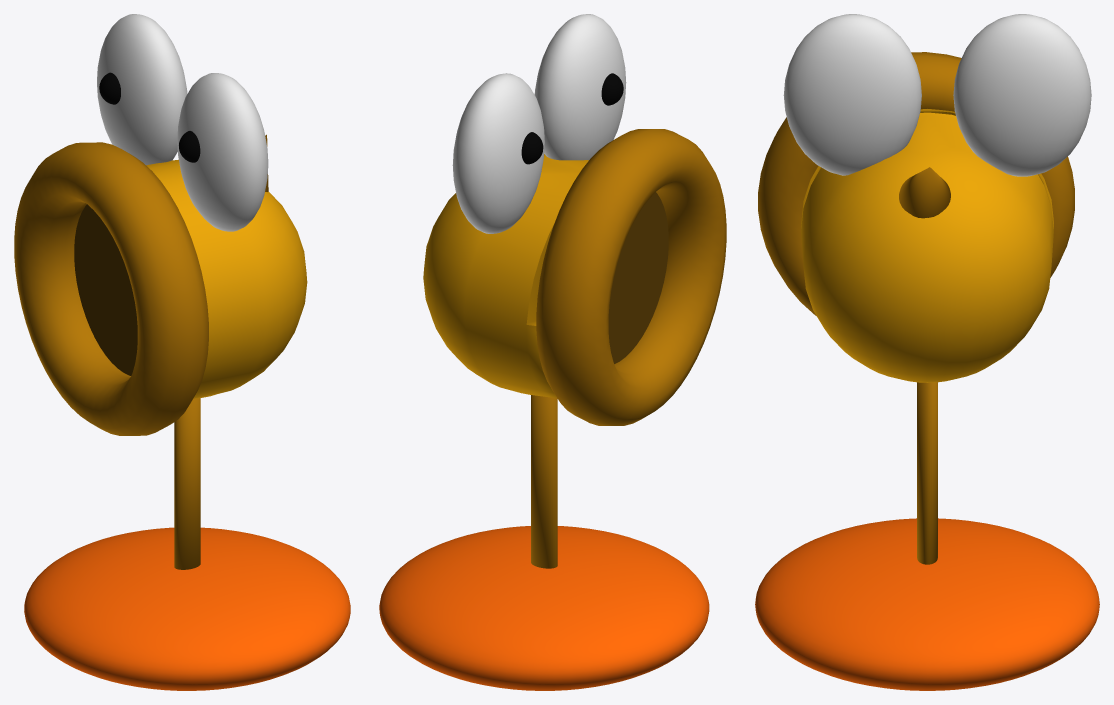
Rendered from Planta.fbx.
3 views of the same model, side by side, from view 1: azimuth 30°, elevation 25°; view 2: azimuth 150°, elevation 25°; view 3: azimuth 270°, elevation 25° (orthographic). The views are drawn at different scales.
Visible parts, largest first — view 1: Sphere.003; view 2: Sphere.003; view 3: Sphere.003.
Boxes of the visible parts, <box> form: Sphere.003: <box>14,14,350,690</box>; Sphere.003: <box>379,14,726,690</box>; Sphere.003: <box>755,14,1099,690</box>.
Bounding box in the file's own units: 296 × 602 × 296.
